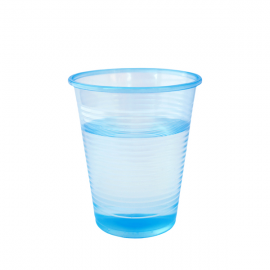plastic_glass: (65, 63, 207, 243)
